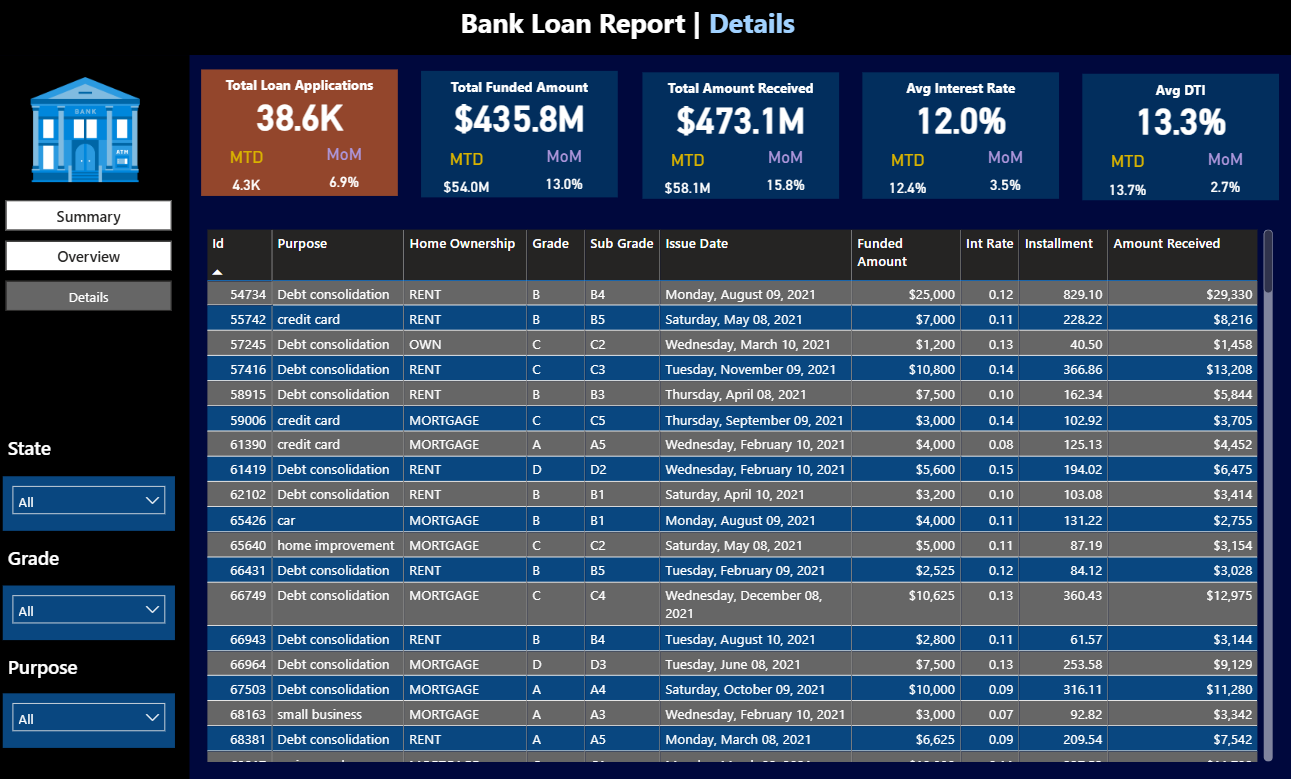

The page's visual inventory and layout, read from the dashboard file:
{"tool":"powerbi","page":{"name":"Details","canvas":[1287,780],"ordinal":2},"visuals":[{"type":"shape","box":[0,55.7,191.4,724.3],"z":0,"group":"g7"},{"type":"shape","box":[202.9,70,195.7,125.7],"z":0,"group":"g3"},{"type":"shape","box":[421.8,71.4,195.7,125.7],"z":0,"group":"g2"},{"type":"shape","box":[640.7,72.9,195.7,125.7],"z":0,"group":"g4"},{"type":"shape","box":[859.6,72.9,195.7,125.7],"z":0,"group":"g5"},{"type":"shape","box":[1078.6,74.3,195.7,125.7],"z":0,"group":"g6"},{"type":"shape","box":[0,0,1287.1,55.7],"z":1000},{"type":"card","fields":{"Values":["bank_loan_data.Total Loan Application"]},"box":[202.9,85.7,195.7,58.6],"z":1000,"group":"g3"},{"type":"card","fields":{"Values":["Date Table.Total Funded Amount"]},"box":[421.8,87.1,195.7,58.6],"z":1000,"group":"g2"},{"type":"card","fields":{"Values":["Date Table.Total Amount Received"]},"box":[640.7,88.6,195.7,58.6],"z":1000,"group":"g4"},{"type":"card","fields":{"Values":["Date Table.Avg Interest Rate"]},"box":[859.6,88.6,195.7,58.6],"z":1000,"group":"g5"},{"type":"card","fields":{"Values":["Date Table.Avg DTI"]},"box":[1078.6,90,195.7,58.6],"z":1000,"group":"g6"},{"type":"textbox","box":[5.7,645.7,97.1,44.3],"z":1000,"group":"g7"},{"type":"textbox","box":[455.7,0,388.6,54.3],"z":2000},{"type":"textbox","box":[202.9,71.4,195.7,28.6],"z":2000,"group":"g3"},{"type":"textbox","box":[421.8,72.8,195.7,28.6],"z":2000,"group":"g2"},{"type":"textbox","box":[640.7,74.3,195.7,28.6],"z":2000,"group":"g4"},{"type":"textbox","box":[859.6,74.3,195.7,28.6],"z":2000,"group":"g5"},{"type":"textbox","box":[1078.6,75.7,195.7,28.6],"z":2000,"group":"g6"},{"type":"slicer","fields":{"Values":["bank_loan_data.address_state"]},"box":[5.7,474.3,171.4,54.3],"z":2000,"group":"g7"},{"type":"group","id":"g1","title":"Group 1","box":[202.9,70,195.7,135.7],"z":3000},{"type":"card","title":"MTD","fields":{"Values":["Date Table.MTD Loan Applications"]},"box":[214.3,147.1,67.1,58.6],"z":3000,"group":"g3"},{"type":"card","title":"MTD","fields":{"Values":["Date Table.MTD Funded Amount"]},"box":[433.2,148.5,67.1,58.6],"z":3000,"group":"g2"},{"type":"card","title":"MTD","fields":{"Values":["Date Table.MTD Total Amount Recieved"]},"box":[652.1,150,67.1,58.6],"z":3000,"group":"g4"},{"type":"card","title":"MTD","fields":{"Values":["Date Table.MTD Avg Int Rate"]},"box":[871,150,67.1,58.6],"z":3000,"group":"g5"},{"type":"card","title":"MTD","fields":{"Values":["Date Table.MTD Avg DTI"]},"box":[1090,151.4,67.1,58.6],"z":3000,"group":"g6"},{"type":"slicer","fields":{"Values":["bank_loan_data.grade"]},"box":[5.7,582.8,171.4,54.3],"z":3000,"group":"g7"},{"type":"group","id":"g2","title":"Group 2","box":[421.8,71.4,195.7,135.7],"z":4000},{"type":"card","title":"MoM","fields":{"Values":["Date Table.MoM Loan Application"]},"box":[311.5,144.3,67.1,58.6],"z":4000,"group":"g3"},{"type":"card","title":"MoM","fields":{"Values":["Date Table.MoM Total Funded Amount"]},"box":[530.4,145.7,67.1,58.6],"z":4000,"group":"g2"},{"type":"card","title":"MoM","fields":{"Values":["Date Table.MoM Total Amount Recieved"]},"box":[749.3,147.2,67.1,58.6],"z":4000,"group":"g4"},{"type":"card","title":"MoM","fields":{"Values":["Date Table.MoM Avg Int Rate"]},"box":[968.2,147.2,67.1,58.6],"z":4000,"group":"g5"},{"type":"card","title":"MoM","fields":{"Values":["Date Table.MoM Avg DTI"]},"box":[1187.2,148.6,67.1,58.6],"z":4000,"group":"g6"},{"type":"textbox","box":[5.7,428.6,97.1,45.7],"z":4000,"group":"g7"},{"type":"group","id":"g3","title":"Group 2","box":[202.9,70,195.7,135.7],"z":4005,"group":"g1"},{"type":"group","id":"g4","title":"Group 2","box":[640.7,72.9,195.7,135.7],"z":5000},{"type":"slicer","fields":{"Values":["bank_loan_data.purpose"]},"box":[5.7,690,171.4,54.3],"z":5000,"group":"g7"},{"type":"group","id":"g5","title":"Group 2","box":[859.6,72.9,195.7,135.7],"z":6000},{"type":"textbox","box":[5.7,537.1,85.7,45.7],"z":6000,"group":"g7"},{"type":"image","box":[28.6,70,118.6,120],"z":7000,"group":"g7"},{"type":"group","id":"g6","title":"Group 2","box":[1078.6,74.3,194.3,134.3],"z":7000},{"type":"pageNavigator","box":[8.6,200.4,165.7,110],"z":8000,"group":"g7"},{"type":"tableEx","fields":{"Values":["bank_loan_data.id","bank_loan_data.purpose","bank_loan_data.home_ownership","bank_loan_data.grade","bank_loan_data.sub_grade","bank_loan_data.issue_date","Date Table.Total Funded Amount","Sum(bank_loan_data.int_rate)","Sum(bank_loan_data.installment)","Date Table.Total Amount Received"]},"box":[202.9,224.3,1070,538.6],"z":15000},{"type":"group","id":"g7","title":"Group 5","box":[0,55.7,191.4,724.3],"z":16002}]}

Visuals, with their boxes in screenshot pixels (x1, y1, x2, y2), scaled from the page's 1287x780 canvas onto the 1291x779 screenshot:
shape: crop(0, 56, 192, 778)
shape: crop(204, 70, 400, 195)
shape: crop(423, 71, 619, 197)
shape: crop(643, 73, 839, 198)
shape: crop(862, 73, 1059, 198)
shape: crop(1082, 74, 1278, 200)
shape: crop(0, 0, 1290, 56)
card - bank_loan_data.Total Loan Application: crop(204, 86, 400, 144)
card - Date Table.Total Funded Amount: crop(423, 87, 619, 146)
card - Date Table.Total Amount Received: crop(643, 88, 839, 147)
card - Date Table.Avg Interest Rate: crop(862, 88, 1059, 147)
card - Date Table.Avg DTI: crop(1082, 90, 1278, 148)
textbox: crop(6, 645, 103, 689)
textbox: crop(457, 0, 847, 54)
textbox: crop(204, 71, 400, 100)
textbox: crop(423, 73, 619, 101)
textbox: crop(643, 74, 839, 103)
textbox: crop(862, 74, 1059, 103)
textbox: crop(1082, 76, 1278, 104)
slicer - bank_loan_data.address_state: crop(6, 474, 178, 528)
"Group 1" group: crop(204, 70, 400, 205)
"MTD" card: crop(215, 147, 282, 205)
"MTD" card: crop(435, 148, 502, 207)
"MTD" card: crop(654, 150, 721, 208)
"MTD" card: crop(874, 150, 941, 208)
"MTD" card: crop(1093, 151, 1161, 210)
slicer - bank_loan_data.grade: crop(6, 582, 178, 636)
"Group 2" group: crop(423, 71, 619, 207)
"MoM" card: crop(312, 144, 380, 203)
"MoM" card: crop(532, 146, 599, 204)
"MoM" card: crop(752, 147, 819, 206)
"MoM" card: crop(971, 147, 1039, 206)
"MoM" card: crop(1191, 148, 1258, 207)
textbox: crop(6, 428, 103, 474)
"Group 2" group: crop(204, 70, 400, 205)
"Group 2" group: crop(643, 73, 839, 208)
slicer - bank_loan_data.purpose: crop(6, 689, 178, 743)
"Group 2" group: crop(862, 73, 1059, 208)
textbox: crop(6, 536, 92, 582)
image: crop(29, 70, 148, 190)
"Group 2" group: crop(1082, 74, 1277, 208)
pageNavigator: crop(9, 200, 175, 310)
tableEx - bank_loan_data.id x bank_loan_data.purpose: crop(204, 224, 1277, 762)
"Group 5" group: crop(0, 56, 192, 778)
